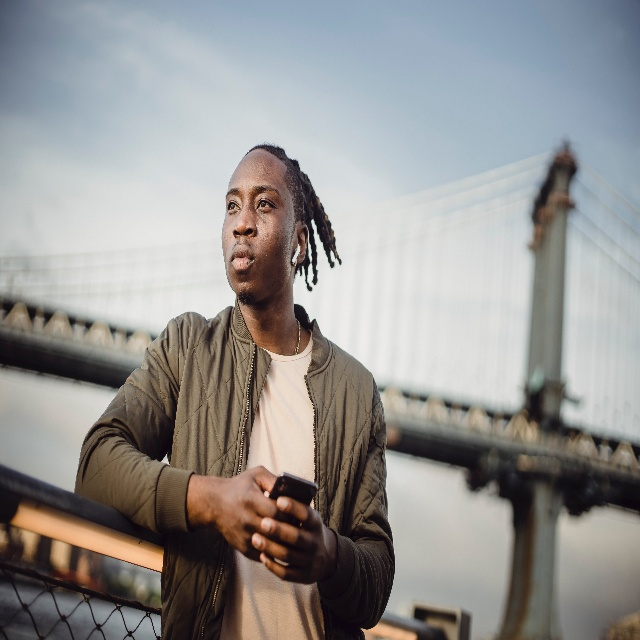Sin_guantes: (253, 492, 331, 584), (221, 464, 279, 561)
